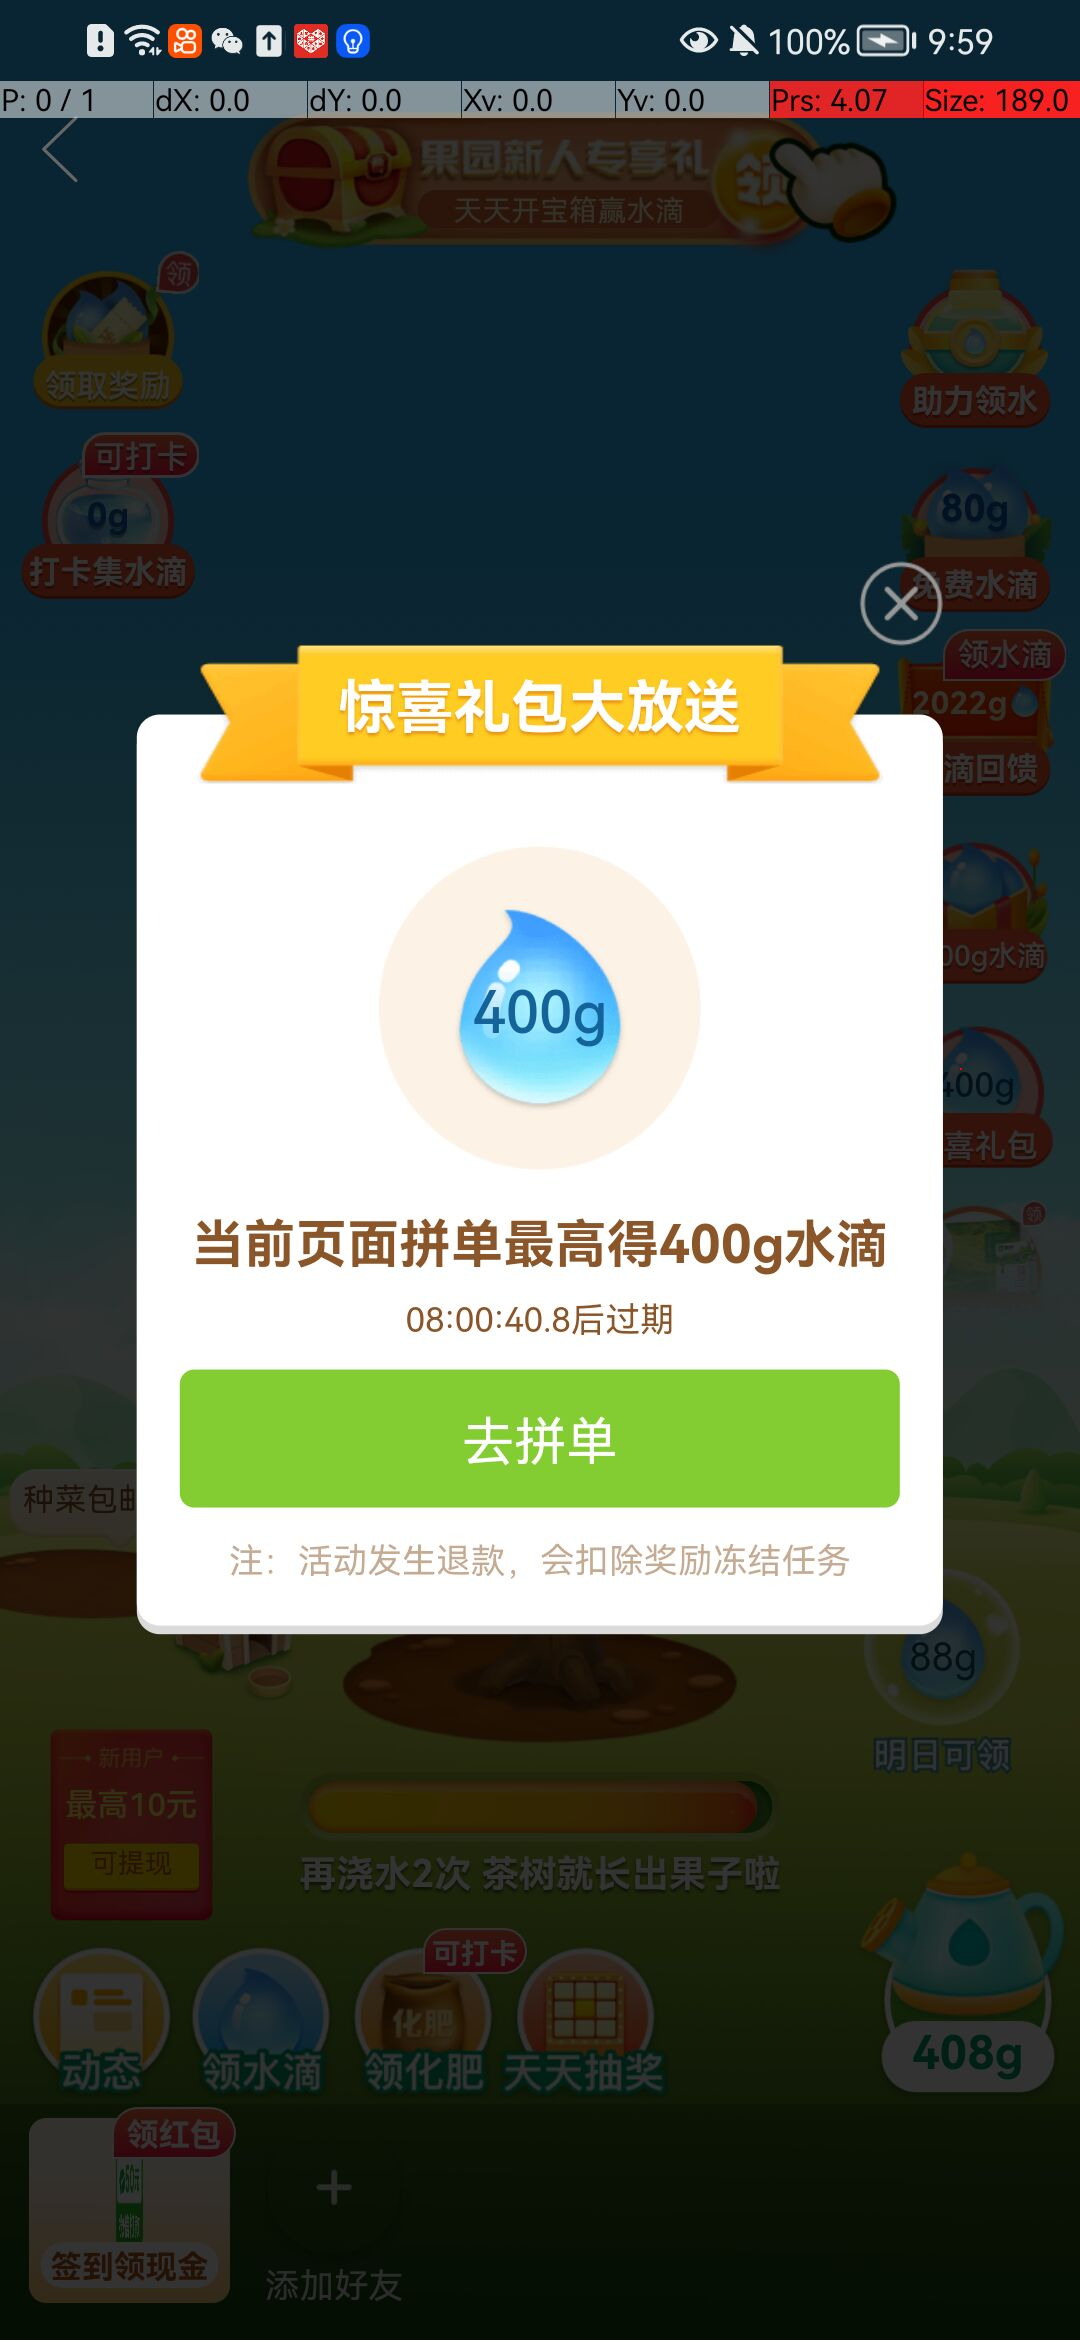popup: (849, 558, 941, 648)
